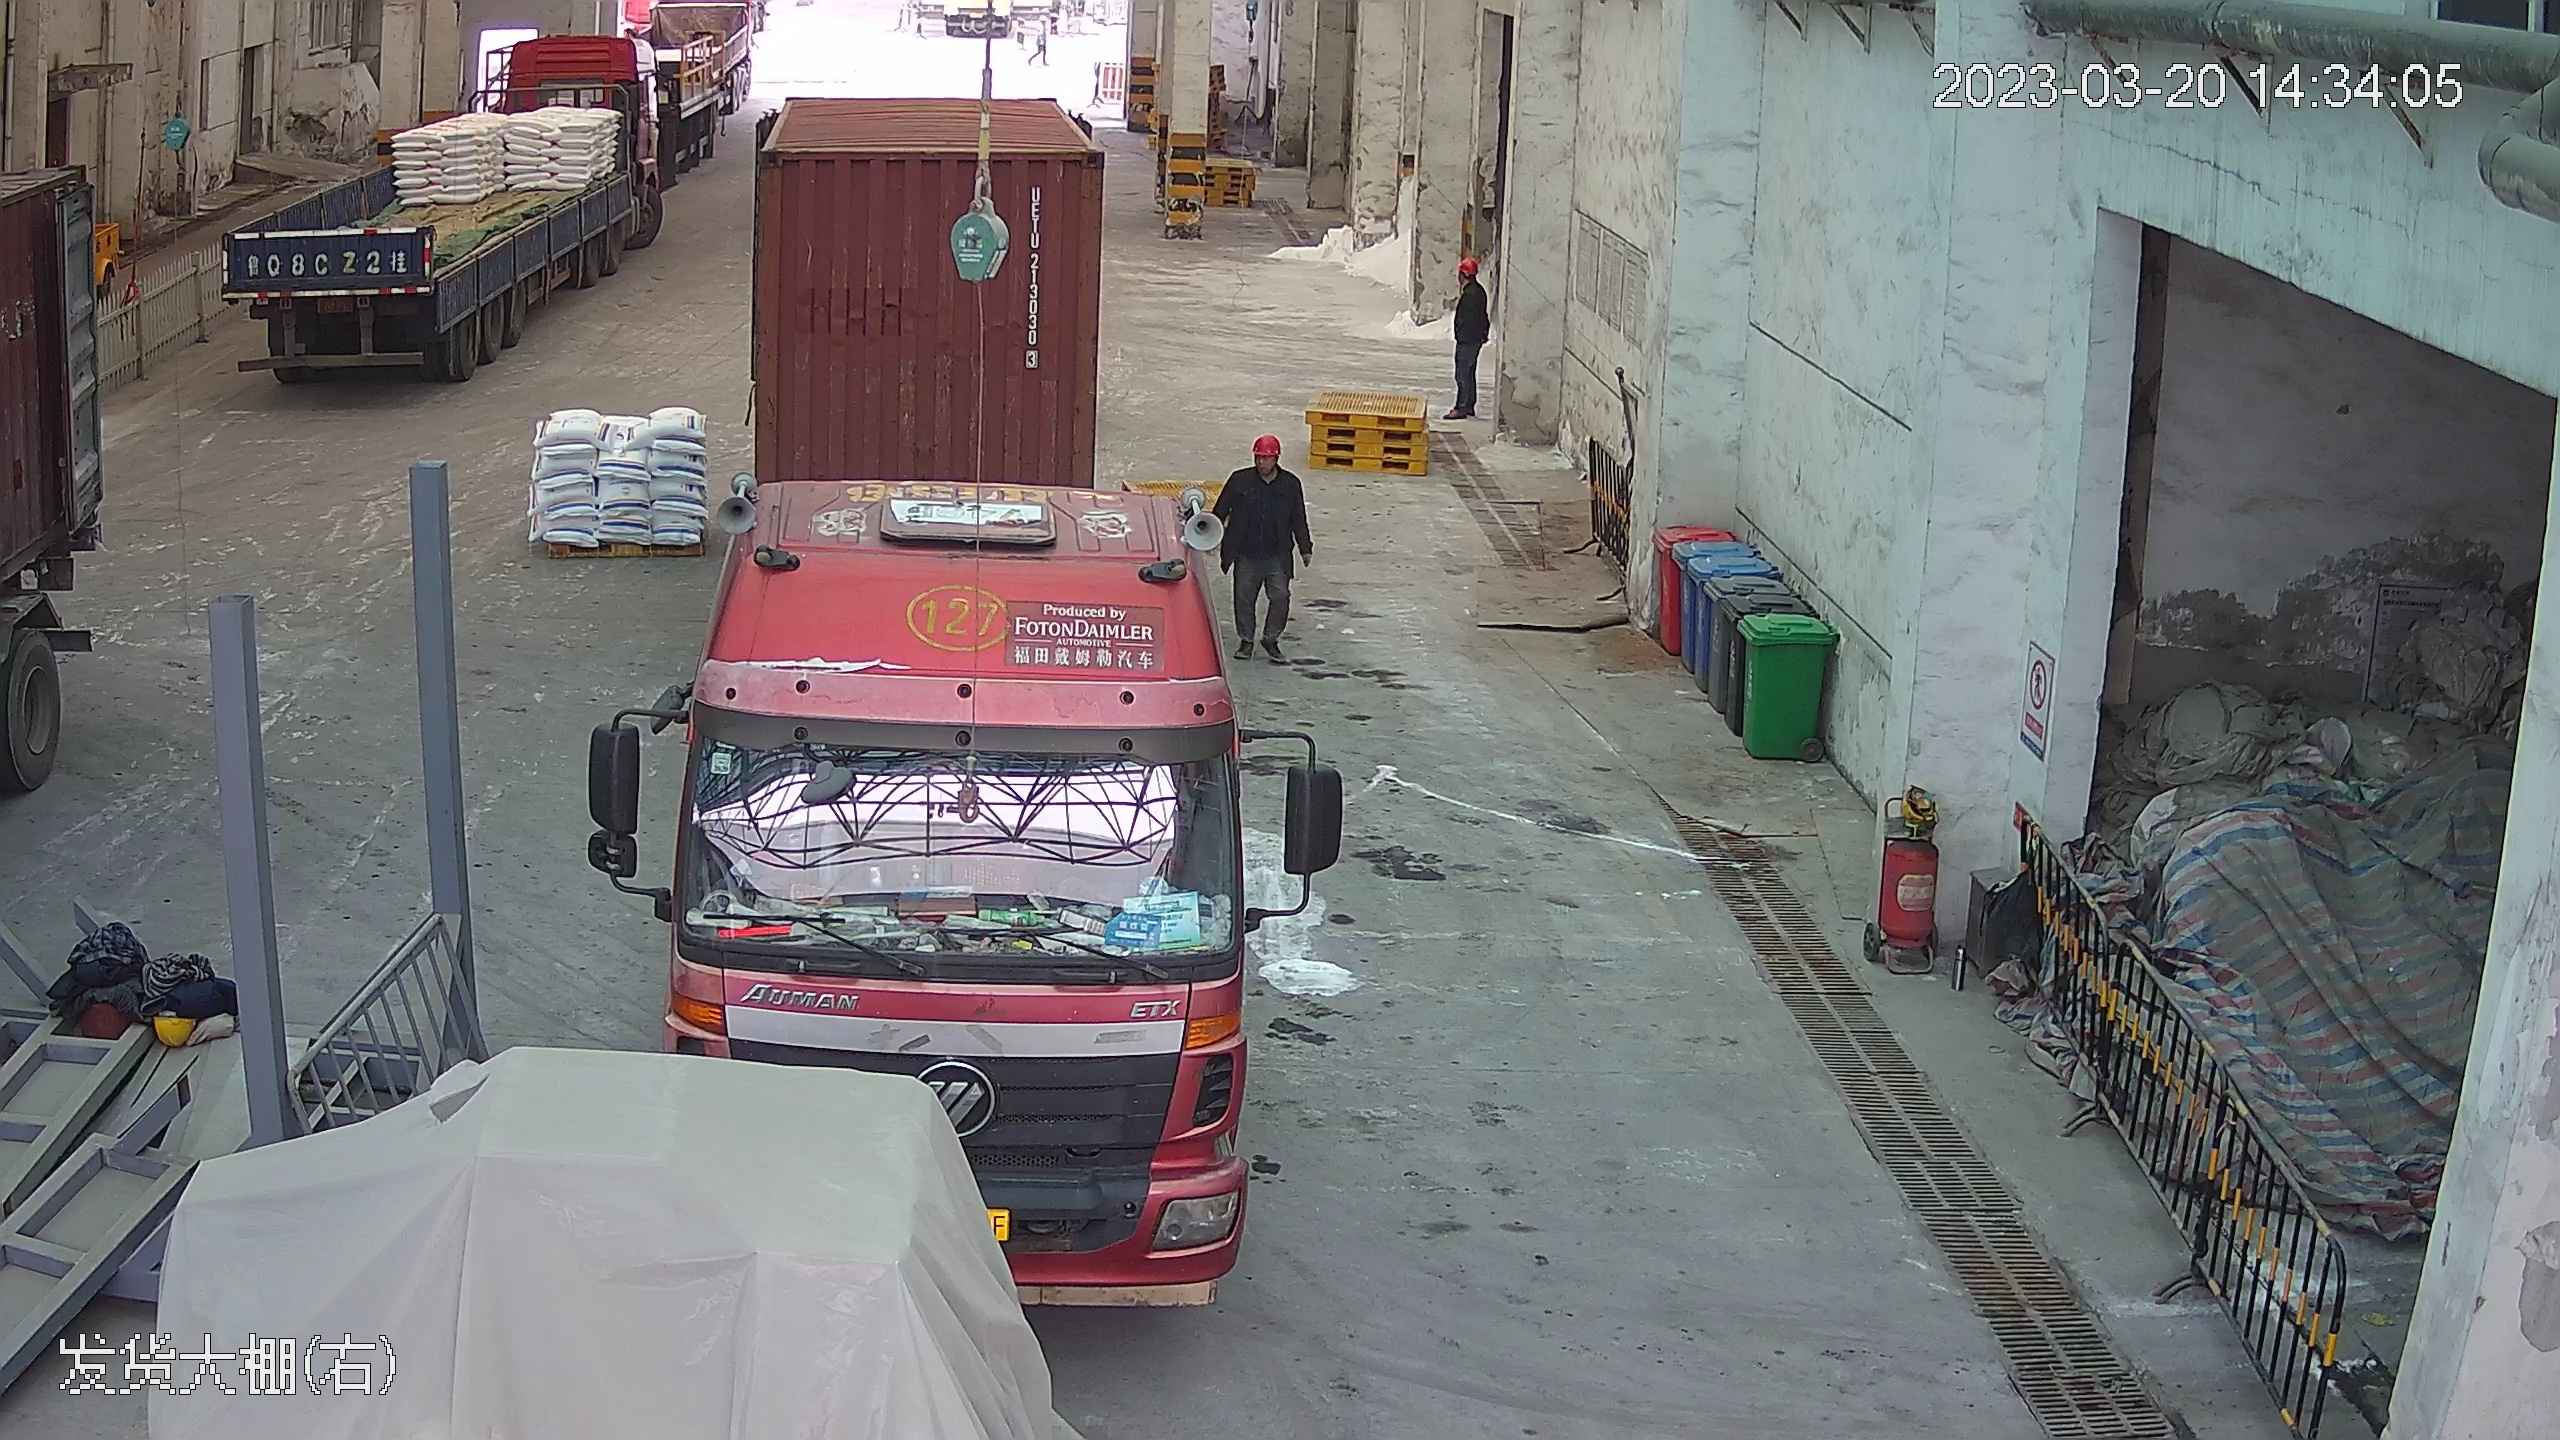head: (1220, 427, 1302, 501), (1450, 247, 1489, 303)
helmet: (1249, 428, 1284, 459)
people: (1208, 423, 1314, 666), (1436, 240, 1496, 431)
truck: (650, 23, 1257, 1261), (218, 27, 667, 392)
